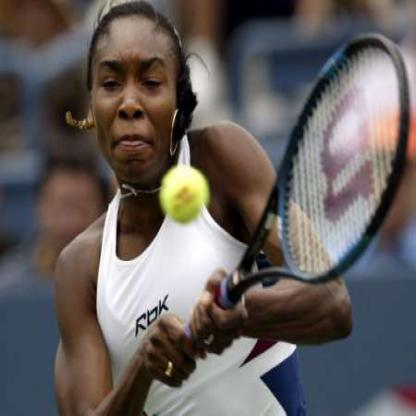face: (90, 4, 181, 183)
